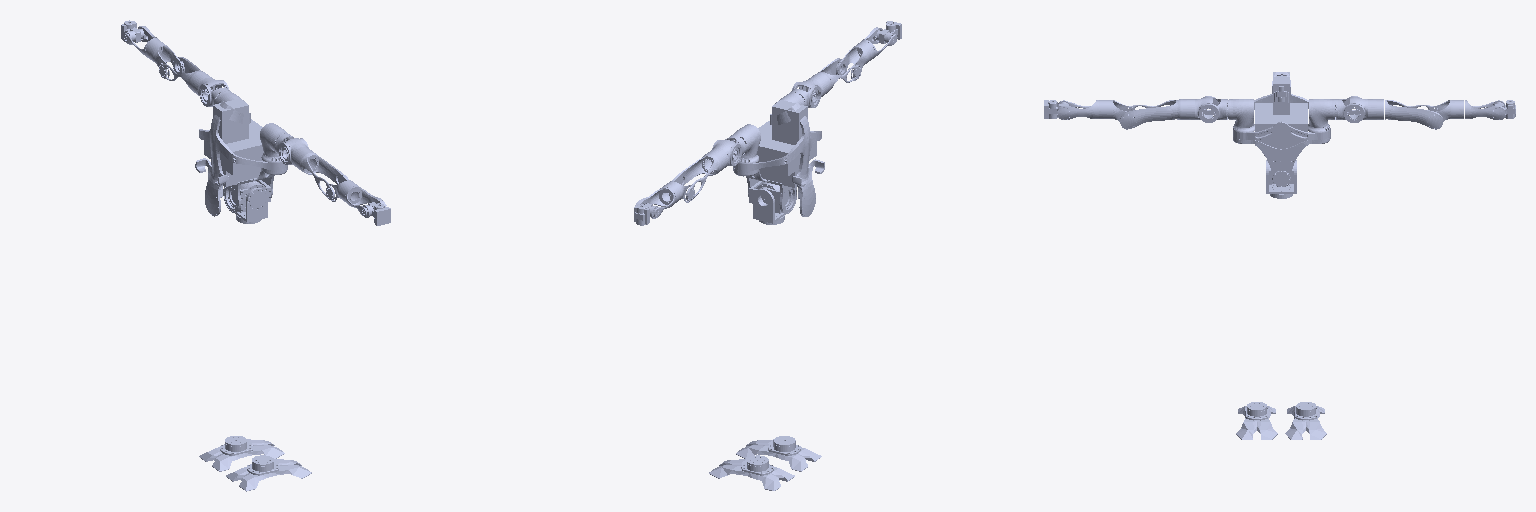
--- Facts derived from the render (not from the file) ---
3 views of the same robot in one strip: view 1: azimuth 30°, elevation 25°; view 2: azimuth 150°, elevation 25°; view 3: azimuth 270°, elevation 25° (orthographic).
Model dyros_tocabi_description with 36 links and 35 joints (33 revolute, 2 fixed), rooted at Pelvis_Link, posed every joint at zero.
Links seen in each view (by area): view 1: Upperbody_Link, R_Foot_Link, L_Foot_Link, R_Armlink_Link, Waist1_Link, L_Elbow_Link, R_Shoulder3_Link, Waist2_Link, R_Shoulder1_Link; view 2: Upperbody_Link, L_Foot_Link, R_Foot_Link, L_Armlink_Link, Waist1_Link, R_Elbow_Link, Waist2_Link, L_Shoulder3_Link, L_Shoulder1_Link; view 3: Upperbody_Link, L_Foot_Link, R_Foot_Link, R_Armlink_Link, L_Armlink_Link, L_Shoulder1_Link, R_Shoulder1_Link, R_Shoulder3_Link, L_Shoulder3_Link, R_Forearm_Link, L_Forearm_Link.
Link boxes in pixels (x1,y1,x2,y2): Upperbody_Link: (195,99,287,216); R_Foot_Link: (226,455,311,491); L_Foot_Link: (199,436,284,471); R_Armlink_Link: (301,154,351,199); Waist1_Link: (235,188,267,223); L_Elbow_Link: (145,40,182,78); R_Shoulder3_Link: (282,138,316,171); Waist2_Link: (228,180,270,212); R_Shoulder1_Link: (260,123,287,156); Upperbody_Link: (733,100,824,216); L_Foot_Link: (709,455,794,490); R_Foot_Link: (736,436,821,471); L_Armlink_Link: (669,155,719,200); Waist1_Link: (753,189,787,224); R_Elbow_Link: (837,41,874,80); Waist2_Link: (749,181,792,213); L_Shoulder3_Link: (704,140,738,173); L_Shoulder1_Link: (731,124,760,158); Upperbody_Link: (1233,72,1330,186); L_Foot_Link: (1285,402,1326,439); R_Foot_Link: (1236,402,1277,439); R_Armlink_Link: (1120,100,1178,129); L_Armlink_Link: (1385,100,1442,129); L_Shoulder1_Link: (1309,99,1334,127); R_Shoulder1_Link: (1229,99,1253,127); R_Shoulder3_Link: (1179,97,1218,119); L_Shoulder3_Link: (1344,97,1383,119); R_Forearm_Link: (1057,100,1098,119); L_Forearm_Link: (1465,100,1506,119).
Size in the robot's own frame: 0.366 by 1.96 by 1.56 metres.
Meshes: 33 distinct files referenced, 19 mesh visuals loaded (18 binary STL); not drawn: 15 (reference not matched to a file when rendering).

URDF robot description (dyros_tocabi_description):
<robot name="dyros_tocabi_description">
  <mujoco>
      <compiler meshdir="../meshes/" balanceinertia="true"/>
  </mujoco>
  <link
    name="Pelvis_Link">
    <inertial>
      <origin
        xyz="0.0585 0 0.0431"
        rpy="0 0 0"/>
      <mass
        value="12.9" />
      <inertia
        ixx="0.113284"
        ixy="-0.000116"
        ixz="-0.0056"
        iyy="0.0585"
        iyz="-0.0"
        izz="0.1422" />
    </inertial>
    <visual>
      <origin
        xyz="0.11 0 0.02"
        rpy="0 0 0" />
      <geometry>
        <mesh
          filename="package://tocabi_description/meshes/Pelvis_link.STL" />
      </geometry>
      <material
        name="">
        <color
          rgba="0.79216 0.81961 0.93333 1" />
      </material>
    </visual>
    <collision>
      <origin
        xyz="0.11 0 0.039"
        rpy="0 0 0" />
      <geometry>
		<cylinder length="0.088" radius="0.045"/>
      </geometry>
    </collision>
	<collision>
      <origin
        xyz="0.11 0.1025 0.05"
        rpy="0 0 0" />
      <geometry>
		<cylinder length="0.11" radius="0.045"/>
      </geometry>
    </collision>
	<collision>
      <origin
        xyz="0.11 -0.1025 0.05"
        rpy="0 0 0" />
      <geometry>
		<cylinder length="0.11" radius="0.045"/>
      </geometry>
    </collision>
	<collision>
      <origin
        xyz="-0.0895 0 0.02"
        rpy="0 0 0" />
      <geometry>
		<box size="0.141 0.305 0.05"/>
      </geometry>
    </collision>
  </link>
  <link
    name="R_HipRoll_Link">
<inertial>
      <origin
        xyz="-0.06477 0 0.05149"
        rpy="0 0 0" />
      <mass
        value="2.679" />
      <inertia
        ixx="0.01821"
        ixy="-1.676E-07"
        ixz="-0.0007745"
        iyy="0.03121"
        iyz="-4.53E-09"
        izz="0.2928" />
    </inertial>
    <visual>
      <origin
        xyz="0 0 0"
        rpy="0 0 0" />
      <geometry>
        <mesh
          filename="package://tocabi_description/meshes/HipRoll_R_link.STL" />
      </geometry>
      <material
        name="">
        <color
          rgba="0.79216 0.81961 0.93333 1" />
      </material>
    </visual>
    <collision>
      <origin
        xyz="-0.1 0 0"
        rpy="0 1.570796 0" />
      <geometry>
        <cylinder length="0.08" radius="0.045"/>
      </geometry>
    </collision>
	<collision>
      <origin
        xyz="-0.016 0 0.085"
        rpy="0 0 0" />
      <geometry>
		<box size="0.154 0.1 0.02"/>
      </geometry>
    </collision>
	<collision>
      <origin
        xyz="0.055 0 0.0475"
        rpy="0 0 0" />
      <geometry>
		<box size="0.012 0.072 0.095"/>
      </geometry>
    </collision>
	<collision>
      <origin
        xyz="-0.087 0 0.0475"
        rpy="0 0 0" />
      <geometry>
		<box size="0.012 0.072 0.095"/>
      </geometry>
    </collision>
  </link>
  <joint
    name="R_HipYaw_Joint"
    type="revolute">
    <origin
      xyz="0.11 -0.1025 -0.1025"
      rpy="0 0 0" />
    <parent
      link="Pelvis_Link" />
    <child
      link="R_HipRoll_Link" />
    <axis
      xyz="0 0 1" />
	<limit
	  lower="-3.14"
	  upper="3.14"
      effort="500"
      velocity="100" />
    <dynamics
      damping="5" />
	  
  </joint>
  <link
    name="R_HipCenter_Link">
	<inertial>
      <origin
        xyz="-0.04801 -0.0022 2E-05"
        rpy="0 0 0" />
      <mass
        value="2.67" />
      <inertia
        ixx="0.3553"
        ixy="1.725E-08"
        ixz="-3.236E-06"
        iyy="0.009161"
        iyz="-4.778E-06"
        izz="0.00876" />
    </inertial>
    <visual>
      <origin
        xyz="0 0 0"
        rpy="0 0 0" />
      <geometry>
        <mesh
          filename="package://tocabi_description/meshes/HipCenter_R_Link.STL" />
      </geometry>
      <material
        name="">
        <color
          rgba="0.79216 0.81961 0.93333 1" />
      </material>
    </visual>
    <collision>
      <origin
        xyz="-0.0045 0 0"
        rpy="0 0 0" />
      <geometry>
		<box size="0.1045 0.06 0.095"/>
      </geometry>
    </collision>
  </link>
  <joint
    name="R_HipRoll_Joint"
    type="revolute">
    <origin
      xyz="0 0 0"
      rpy="1.38777878078145E-17 2.74984739744835E-16 4.49346870585602E-16" />
    <parent
      link="R_HipRoll_Link" />
    <child
      link="R_HipCenter_Link" />
    <axis
      xyz="1 0 0" />
	  <limit
	  lower="-3.14"
	  upper="3.14"
      effort="500"
      velocity="100" />
    <dynamics
      damping="5" />
  </joint>
  <link
    name="R_Thigh_Link">
    <inertial>
      <origin
        xyz="-0.0003 -0.00032 -0.247"
        rpy="0 0 0" />
      <mass
        value="5.65" />
      <inertia
        ixx="0.0794"
        ixy="4.1E-05"
        ixz="0.000727"
        iyy="0.080"
        iyz="0.001537"
        izz="0.009967" />
    </inertial>
    <visual>
      <origin
        xyz="0 0 0"
        rpy="0 0 0" />
      <geometry>
        <mesh
          filename="package://tocabi_description/meshes/Thigh_R_Link.STL" />
      </geometry>
      <material
        name="">
        <color
          rgba="0.79216 0.81961 0.93333 1" />
      </material>
    </visual>
    <collision>
      <origin
        xyz="0 0 -0.35"
        rpy="1.570796 0 0" />
      <geometry>
        <cylinder length="0.07763" radius="0.049"/>
      </geometry>
    </collision>
	<collision>
      <origin
        xyz="0 0 -0.1923"
        rpy="0 0 0" />
      <geometry>
        <cylinder length="0.2175" radius="0.06"/>
      </geometry>
    </collision>
  </link>
  <joint
    name="R_HipPitch_Joint"
    type="revolute">
    <origin
      xyz="0 0 0"
      rpy="-1.38777878078143E-17 -2.74984739744835E-16 -4.49346870585602E-16" />
    <parent
      link="R_HipCenter_Link" />
    <child
      link="R_Thigh_Link" />
    <axis
      xyz="0 1 0" />
	  <limit
	  lower="-3.14"
	  upper="3.14"
      effort="500"
      velocity="100" />
    <dynamics
      damping="5" />
  </joint>
  <link
    name="R_Knee_Link">
     <inertial>
      <origin
        xyz="0.007 0.00214 -0.1686"
        rpy="0 0 0" />
      <mass
        value="2.614" />
      <inertia
        ixx="0.1506"
        ixy="-2.887E-05"
        ixz="-0.002607"
        iyy="0.5588"
        iyz="-0.001486"
        izz="0.007451" />
    </inertial>
    <visual>
      <origin
        xyz="0 0 0"
        rpy="0 0 0" />
      <geometry>
        <mesh
          filename="package://tocabi_description/meshes/Knee_R_Link.STL" />
      </geometry>
      <material
        name="">
        <color
          rgba="0.79216 0.81961 0.93333 1" />
      </material>
    </visual>
    <collision>
      <origin
        xyz="0 0 -0.175"
        rpy="0 0 0" />
      <geometry>
        <cylinder length="0.200" radius="0.06"/>
      </geometry>
    </collision>
  </link>
  <joint
    name="R_Knee_Joint"
    type="revolute">
    <origin
      xyz="0 0 -0.349999999999809"
      rpy="0 0 0" />
    <parent
      link="R_Thigh_Link" />
    <child
      link="R_Knee_Link" />
    <axis
      xyz="0 1 0" />
	  <limit
	  lower="-3.14"
	  upper="3.14"
      effort="500"
      velocity="100" />
    <dynamics
      damping="5" />
  </joint>
  <link
    name="R_AnkleCenter_Link">
<inertial>
      <origin
        xyz="-0.00228 0.0006 0.0"
        rpy="0 0 0" />
      <mass
        value="2.833" />
      <inertia
        ixx="0.003548"
        ixy="-4.0E-06"
        ixz="-2.222E-06"
        iyy="0.004046"
        iyz="5.0E-06"
        izz="0.00397" />
    </inertial>
    <visual>
      <origin
        xyz="0 0 0"
        rpy="0 0 0" />
      <geometry>
        <mesh
          filename="package://tocabi_description/meshes/AnkleCenter_R_Link.STL" />
      </geometry>
      <material
        name="">
        <color
          rgba="0.79216 0.81961 0.93333 1" />
      </material>
    </visual>
    <collision>
      <origin
        xyz="-0.0045 0 0"
        rpy="0 0 0" />
      <geometry>
		<box size="0.1045 0.06 0.095"/>
      </geometry>
    </collision>
  </link>
  <joint
    name="R_AnklePitch_Joint"
    type="revolute">
    <origin
      xyz="0 0 -0.35"
      rpy="-2.77555756156282E-17 -1.48042453629419E-16 5.37756273475549E-16" />
    <parent
      link="R_Knee_Link" />
    <child
      link="R_AnkleCenter_Link" />
    <axis
      xyz="0 1 0" />
	  <limit
	  lower="-3.14"
	  upper="3.14"
      effort="500"
      velocity="100" />
    <dynamics
      damping="5" />
  </joint>
  <link
    name="R_AnkleRoll_Link">
    <inertial>
      <origin
        xyz="-0.0746 0.0 -0.0096"
        rpy="0 0 0" />
      <mass
        value="2.1" />
      <inertia
        ixx="0.003951"
        ixy="2e-05"
        ixz="0.0019"
        iyy="0.008642"
        iyz="-5.435E-06"
        izz="0.007223" />
    </inertial>
    <visual>
      <origin
        xyz="0 0 0"
        rpy="0 0 0" />
      <geometry>
        <mesh
          filename="package://tocabi_description/meshes/AnkleRoll_R_Link.STL" />
      </geometry>
      <material
        name="">
        <color
          rgba="0.79216 0.81961 0.93333 1" />
      </material>
    </visual>
    <collision>
      <origin
        xyz="-0.08875 0 0"
        rpy="0 -1.5707963 0" />
      <geometry>
		<cylinder length="0.0625" radius="0.045"/>
      </geometry>
    </collision>
  </link>
  <joint
    name="R_AnkleRoll_Joint"
    type="revolute">
    <origin
      xyz="0 0 0"
      rpy="0 0 0" />
    <parent
      link="R_AnkleCenter_Link" />
    <child
      link="R_AnkleRoll_Link" />
    <axis
      xyz="1 0 0" />
	  <limit
	  lower="-3.14"
	  upper="3.14"
      effort="500"
      velocity="100" />
    <dynamics
      damping="5" />
  </joint>
  <link
    name="R_Foot_Link">
    <inertial>
      <origin
        xyz="0.016 0.00008 -0.1206"
        rpy="0 0 0" />
      <mass
        value="2.35" />
      <inertia
        ixx="0.003386409"
        ixy="1.1237E-05"
        ixz="-0.000526477"
        iyy="0.012600125"
        iyz="-1.976E-06"
        izz="0.014296" />
    </inertial>
    <visual>
      <origin
        xyz="0 0 0"
        rpy="0 0 0" />
      <geometry>
        <mesh
          filename="package://tocabi_description/meshes/Foot_Link.STL" />
      </geometry>
      <material
        name="">
        <color
          rgba="0.79216 0.81961 0.93333 1" />
      </material>
    </visual>
    <collision>
      <origin
        xyz="0.03 0 -0.145"
        rpy="0 0 0" />
      <geometry>
		<box size="0.3 0.17 0.027"/>
      </geometry>
    </collision>
	<collision>
      <origin
        xyz="-0.08875 0 0"
        rpy="0 -1.5707963 0" />
      <geometry>
		<cylinder length="0.0625" radius="0.045"/>
      </geometry>
    </collision>
  </link>
  <joint
    name="R_Foot_Joint"
    type="fixed">
    <origin
      xyz="0 0 0"
      rpy="0 0 0" />
    <parent
      link="R_AnkleRoll_Link" />
    <child
      link="R_Foot_Link" />
    <axis
      xyz="0 0 0" />
	  <limit
	  lower="-3.14"
	  upper="3.14"
      effort="500"
      velocity="100" />
    <dynamics
      damping="5" />
  </joint> 
  <link
    name="L_HipRoll_Link">
    <inertial>
      <origin
        xyz="-0.06477 0 0.05149"
        rpy="0 0 0" />
      <mass
        value="2.679" />
      <inertia
        ixx="0.01821"
        ixy="-1.676E-07"
        ixz="-0.0007745"
        iyy="0.03121"
        iyz="-4.53E-09"
        izz="0.2928" />
    </inertial>
    <visual>
      <origin
        xyz="0 0 0"
        rpy="0 0 0" />
      <geometry>
        <mesh
          filename="package://tocabi_description/meshes/HipRoll_L_Link.STL" />
      </geometry>
      <material
        name="">
        <color
          rgba="0.79216 0.81961 0.93333 1" />
      </material>
    </visual>
    <collision>
      <origin
        xyz="-0.1 0 0"
        rpy="0 1.570796 0" />
      <geometry>
        <cylinder length="0.08" radius="0.045"/>
      </geometry>
    </collision>
	<collision>
      <origin
        xyz="-0.016 0 0.085"
        rpy="0 0 0" />
      <geometry>
		<box size="0.154 0.1 0.02"/>
      </geometry>
    </collision>
	<collision>
      <origin
        xyz="0.055 0 0.0475"
        rpy="0 0 0" />
      <geometry>
		<box size="0.012 0.072 0.095"/>
      </geometry>
    </collision>
	<collision>
      <origin
        xyz="-0.087 0 0.0475"
        rpy="0 0 0" />
      <geometry>
		<box size="0.012 0.072 0.095"/>
      </geometry>
    </collision>
  </link>
  <joint
    name="L_HipYaw_Joint"
    type="revolute">
    <origin
      xyz="0.11 0.1025 -0.1025"
      rpy="0 0 0" />
    <parent
      link="Pelvis_Link" />
    <child
      link="L_HipRoll_Link" />
    <axis
      xyz="0 0 1" />
	  <limit
	  lower="-3.14"
	  upper="3.14"
      effort="500"
      velocity="100" />
    <dynamics
      damping="5" />
  </joint>

  <link
    name="L_HipCenter_Link">
   <inertial>
      <origin
        xyz="-0.04801 0.0022 2E-05"
        rpy="0 0 0" />
      <mass
        value="2.67" />
      <inertia
        ixx="0.3553"
        ixy="1.725E-08"
        ixz="-3.236E-06"
        iyy="0.009161"
        iyz="-4.778E-06"
        izz="0.00876" />
    </inertial>
    <visual>
      <origin
        xyz="0 0 0"
        rpy="0 0 0" />
      <geometry>
        <mesh
          filename="package://tocabi_description/meshes/HipCenter_L_Link.STL" />
      </geometry>
      <material
        name="">
        <color
          rgba="0.79216 0.81961 0.93333 1" />
      </material>
    </visual>    
    <collision>
      <origin
        xyz="-0.0045 0 0"
        rpy="0 0 0" />
      <geometry>
		<box size="0.1045 0.06 0.095"/>
      </geometry>
    </collision>
  </link>
  <joint
    name="L_HipRoll_Joint"
    type="revolute">
    <origin
      xyz="0 0 0"
      rpy="2.77555756156289E-17 1.88969769143558E-16 1.36928250674653E-16" />
    <parent
      link="L_HipRoll_Link" />
    <child
      link="L_HipCenter_Link" />
    <axis
      xyz="1 0 0" />
	  <limit
	  lower="-3.14"
	  upper="3.14"
      effort="500"
      velocity="100" />
    <dynamics
      damping="5" />
  </joint>
  <link
    name="L_Thigh_Link">
   <inertial>
      <origin
        xyz="-0.0003 0.00032 -0.247"
        rpy="0 0 0" />
      <mass
        value="5.65" />
      <inertia
        ixx="0.0794"
        ixy="4.1E-05"
        ixz="0.000727"
        iyy="0.080"
        iyz="-0.001537"
        izz="0.009967" />
    </inertial>
    <visual>
      <origin
        xyz="0 0 0"
        rpy="0 0 0" />
      <geometry>
        <mesh
          filename="package://tocabi_description/meshes/Thigh_L_Link.STL" />
      </geometry>
      <material
        name="">
        <color
          rgba="0.79216 0.81961 0.93333 1" />
      </material>
    </visual>
    <collision>
      <origin
        xyz="0 0 -0.35"
        rpy="1.570796 0 0" />
      <geometry>
        <cylinder length="0.07763" radius="0.049"/>
      </geometry>
    </collision>
	<collision>
      <origin
        xyz="0 0 -0.1923"
        rpy="0 0 0" />
      <geometry>
        <cylinder length="0.2175" radius="0.06"/>
      </geometry>
    </collision>
  </link>
  <joint
    name="L_HipPitch_Joint"
    type="revolute">
    <origin
      xyz="0 0 0"
      rpy="-2.77555756156289E-17 -1.88969769143558E-16 -1.36928250674653E-16" />
    <parent
      link="L_HipCenter_Link" />
    <child
      link="L_Thigh_Link" />
    <axis
      xyz="0 1 0" />
	  <limit
	  lower="-3.14"
	  upper="3.14"
      effort="500"
      velocity="100" />
    <dynamics
      damping="5" />
  </joint>

  <link
    name="L_Knee_Link">
    <inertial>
      <origin
        xyz="0.007 0.00214 -0.1686"
        rpy="0 0 0" />
      <mass
        value="2.614" />
      <inertia
        ixx="0.1506"
        ixy="2.887E-05"
        ixz="0.002607"
        iyy="0.5588"
        iyz="0.001486"
        izz="0.007451" />
    </inertial>
    <visual>
      <origin
        xyz="0 0 0"
        rpy="0 0 0" />
      <geometry>
        <mesh
          filename="package://tocabi_description/meshes/Knee_L_Link.STL" />
      </geometry>
      <material
        name="">
        <color
          rgba="0.79216 0.81961 0.93333 1" />
      </material>
    </visual>
    <collision>
      <origin
        xyz="0 0 -0.175"
        rpy="0 0 0" />
      <geometry>
        <cylinder length="0.200" radius="0.06"/>
      </geometry>
    </collision>
  </link>
  <joint
    name="L_Knee_Joint"
    type="revolute">
    <origin
      xyz="0 0 -0.350000000000191"
      rpy="0 0 0" />
    <parent
      link="L_Thigh_Link" />
    <child
      link="L_Knee_Link" />
    <axis
      xyz="0 1 0" />
	  <limit
	  lower="-3.14"
	  upper="3.14"
      effort="500"
      velocity="100" />
    <dynamics
      damping="5" />
  </joint>
  <link
    name="L_AnkleCenter_Link">
     <inertial>
      <origin
        xyz="-0.00228 -0.0006 0.0"
        rpy="0 0 0" />
      <mass
        value="2.833" />
      <inertia
        ixx="0.003548"
        ixy="4.0E-06"
        ixz="2.222E-06"
        iyy="0.004046"
        iyz="5.0E-06"
        izz="0.00397" />
    </inertial>
    <visual>
      <origin
        xyz="0 0 0"
        rpy="0 0 0" />
      <geometry>
        <mesh
          filename="package://tocabi_description/meshes/AnkleCenter_L_Link.STL" />
      </geometry>
      <material
        name="">
        <color
          rgba="0.79216 0.81961 0.93333 1" />
      </material>
    </visual>
    <collision>
      <origin
        xyz="-0.0045 0 0"
        rpy="0 0 0" />
      <geometry>
		<box size="0.1045 0.06 0.095"/>
      </geometry>
    </collision>
  </link>
  <joint
    name="L_AnklePitch_Joint"
    type="revolute">
    <origin
      xyz="0 0 -0.350000000051828"
      rpy="2.57102424745274E-31 -1.5978825624527E-16 1.89651504296143E-16" />
    <parent
      link="L_Knee_Link" />
    <child
      link="L_AnkleCenter_Link" />
    <axis
      xyz="0 1 0" />
	  <limit
	  lower="-3.14"
	  upper="3.14"
      effort="500"
      velocity="100" />
    <dynamics
      damping="5" />
  </joint>
  <link
    name="L_AnkleRoll_Link">
    <inertial>
      <origin
        xyz="-0.0746 0.0 -0.0096"
        rpy="0 0 0" />
      <mass
        value="2.1" />
      <inertia
        ixx="0.003951"
        ixy="2e-05"
        ixz="0.0019"
        iyy="0.008642"
        iyz="-5.435E-06"
        izz="0.007223" />
    </inertial>
    <visual>
      <origin
        xyz="0 0 0"
        rpy="0 0 0" />
      <geometry>
        <mesh
          filename="package://tocabi_description/meshes/AnkleRoll_L_Link.STL" />
      </geometry>
      <material
        name="">
        <color
          rgba="0.79216 0.81961 0.93333 1" />
      </material>
    </visual>
    <collision>
      <origin
        xyz="-0.08875 0 0"
        rpy="0 -1.5707963 0" />
      <geometry>
		<cylinder length="0.0625" radius="0.045"/>
      </geometry>
    </collision>
  </link>
  <joint
    name="L_AnkleRoll_Joint"
    type="revolute">
    <origin
      xyz="0 0 0"
      rpy="-2.87406507911047E-31 1.5978825624527E-16 -1.89651504296143E-16" />
    <parent
      link="L_AnkleCenter_Link" />
    <child
      link="L_AnkleRoll_Link" />
    <axis
      xyz="1 0 0" />
	  <limit
	  lower="-3.14"
	  upper="3.14"
      effort="500"
      velocity="100" />
    <dynamics
      damping="5" />
  </joint>
  <link
    name="L_Foot_Link">
    <inertial>
      <origin
        xyz="0.016 -0.00008 -0.1206"
        rpy="0 0 0" />
      <mass
        value="2.350" />
      <inertia
        ixx="0.003386409"
        ixy="1.1237E-05"
        ixz="-0.000526477"
        iyy="0.012600125"
        iyz="-1.976E-06"
        izz="0.014296" />
    </inertial>
    <visual>
      <origin
        xyz="0 0 0"
        rpy="0 0 0" />
      <geometry>
        <mesh
          filename="package://tocabi_description/meshes/Foot_Link.STL" />
      </geometry>
      <material
        name="">
        <color
          rgba="0.79216 0.81961 0.93333 1" />
      </material>
    </visual>
    <collision>
      <origin
        xyz="0.03 0 -0.145"
        rpy="0 0 0" />
      <geometry>
		<box size="0.3 0.17 0.027"/>
      </geometry>
    </collision>
	<collision>
      <origin
        xyz="-0.08875 0 0"
        rpy="0 -1.5707963 0" />
      <geometry>
		<cylinder length="0.0625" radius="0.045"/>
      </geometry>
    </collision>
  </link>
  <joint
    name="L_Foot_Joint"
    type="fixed">
    <origin
      xyz="0 0 0"
      rpy="0 0 0" />
    <parent
      link="L_AnkleRoll_Link" />
    <child
      link="L_Foot_Link" />
    <axis
      xyz="0 0 0" />
	  <limit
	  lower="-3.14"
	  upper="3.14"
      effort="500"
      velocity="100" />
    <dynamics
      damping="5" />
  </joint>
  <link
    name="Waist1_Link">
    <inertial>
      <origin
        xyz="-0.033735 0 -0.0386"
        rpy="0 0 0" />
      <mass
        value="6.477" />
      <inertia
        ixx="0.06657"
        ixy="0.0001591"
        ixz="0.0001333"
        iyy="0.02504"
        iyz="0.0003246"
        izz="0.08023" />
    </inertial>
    <visual>
      <origin
        xyz="0 0 0"
        rpy="0 0 0" />
      <geometry>
        <mesh
          filename="package://tocabi_description/meshes/waist1.STL" />
      </geometry>
      <material
        name="">
        <color
          rgba="0.792156862745098 0.819607843137255 0.933333333333333 1" />
      </material>
    </visual>
	<visual>
      <origin
        xyz="0 0 -0.096"
        rpy="0 0 0" />
      <geometry>
        <cylinder length="0.02" radius="0.05"/>
      </geometry>
      <material
        name="">
        <color
          rgba="0.792156862745098 0.819607843137255 0.933333333333333 1" />
      </material>
    </visual>
	<collision>
      <origin
        xyz="0 0 -0.096"
        rpy="0 0 0" />
      <geometry>
		<cylinder length="0.02" radius="0.05"/>
      </geometry>	  
    </collision>	
	<collision>
      <origin
        xyz="0 0 -0.081"
        rpy="0 0 0" />
      <geometry>
        <box size="0.094 0.13 0.01"/>
      </geometry>	  
    </collision>
	<collision>
      <origin
        xyz="0 0.06 -0.0405"
        rpy="0 0 0" />
      <geometry>
        <box size="0.094 0.01 0.091"/>
      </geometry>	  
    </collision>
	<collision>
      <origin
        xyz="0 -0.06 -0.0405"
        rpy="0 0 0" />
      <geometry>
        <box size="0.094 0.01 0.091"/>
      </geometry>	  
    </collision>
	
  </link>
  <joint
    name="Waist1_Joint"
    type="revolute">
    <origin
      xyz="0.11 0 0.1979"
      rpy="0 0 0" />
    <parent
      link="Pelvis_Link" />
    <child
      link="Waist1_Link" />
    <axis
      xyz="0 0 1" />
    <limit
      lower="-2.094"
      upper="2.094"
      effort="500"
      velocity="100" />
	<dynamics
      damping="5" />
   </joint>
  <link
    name="Waist2_Link">
    <inertial>
      <origin
        xyz="-0.000266 0.009 0"
        rpy="0 0 0" />
      <mass
        value="3.881" />
      <inertia
        ixx="0.006439"
        ixy="-1e-05"
        ixz="0.0"
        iyy="0.007393"
        iyz="-1e-06"
        izz="0.007618" />
    </inertial>
    <visual>
      <origin
        xyz="0 0 0"
        rpy="0 0 0" />
      <geometry>
        <mesh
          filename="package://tocabi_description/meshes/waist2.STL" />
      </geometry>
      <material
        name="">
        <color
          rgba="0.792156862745098 0.819607843137255 0.933333333333333 1" />
      </material>
    </visual>
    
	<collision>
      <origin
        xyz="0 0 0"
        rpy="1.570796 0 0" />
      <geometry>
        <cylinder length="0.1" radius="0.055"/>
      </geometry>
    </collision>
	<collision>
      <origin
        xyz="0.02 0 0"
        rpy="0 0 0" />
      <geometry>
        <box size="0.1 0.1 0.06"/>
      </geometry>
    </collision>
	<collision>
      <origin
        xyz="-0.02 0 0"
        rpy="0 0 0" />
      <geometry>
        <box size="0.09 0.1 0.091"/>
      </geometry>
    </collision>
	
	
  </link>
  <joint
    name="Waist2_Joint"
    type="revolute">
    <origin
      xyz="0 0 0"
      rpy="0 0 0" />
    <parent
      link="Waist1_Link" />
    <child
      link="Waist2_Link" />
    <axis
      xyz="0 1 0" />
    <limit
      lower="-2.094"
      upper="2.094"
      effort="500"
      velocity="100" />
	<dynamics
      damping="5" />
  </joint>
<link
    name="Upperbody_Link">
    <inertial>
      <origin
        xyz="-0.0608 0.0017 0.1077"
        rpy="0 0 0" />
      <mass
        value="20.034" />
      <inertia
        ixx="0.309"
        ixy="0.000385"
        ixz="-0.0422"
        iyy="0.2935"
        iyz="0.0005"
        izz="0.2137" />
    </inertial>
    <visual>
      <origin
        xyz="0 0 0"
        rpy="0 0 0" />
      <geometry>
        <mesh
          filename="package://tocabi_description/meshes/upperbody.STL" />
      </geometry>
      <material
        name="">
        <color
          rgba="0.792156862745098 0.819607843137255 0.933333333333333 1" />
      </material>
    </visual>
	<visual>
	  <origin
        xyz="-0.03 0 0.2"
        rpy="0 0 0" />
      <geometry>
        <box size="0.21 0.22 0.1"/>
      </geometry>
      <material
        name="">
        <color
          rgba="0.792156862745098 0.819607843137255 0.933333333333333 1" />
      </material>
    </visual>
	    <visual>
      <origin
        xyz="-0.03 0 0.115"
        rpy="0 0 0" />
      <geometry>
        <box size="0.21 0.11 0.07"/>
      </geometry>
      <material
        name="">
        <color
          rgba="0.792156862745098 0.819607843137255 0.933333333333333 1" />
      </material>
    </visual>
	    <visual>
      <origin
        xyz="-0.08 0 0.32"
        rpy="0 0 0" />
      <geometry>
        <box size="0.12 0.07 0.14"/>
      </geometry>
      <material
        name="">
        <color
          rgba="0.792156862745098 0.819607843137255 0.933333333333333 1" />
      </material>
    </visual>
    <collision>
      <origin
        xyz="-0.03 0 0.2"
        rpy="0 0 0" />
      <geometry>
        <box size="0.21 0.22 0.1"/>
      </geometry>
    </collision>
	<collision>
      <origin
        xyz="-0.03 0 0.115"
        rpy="0 0 0" />
      <geometry>
        <box size="0.21 0.11 0.07"/>
      </geometry>
    </collision>
	
	<collision>
      <origin
        xyz="-0.08 0 0.32"
        rpy="0 0 0" />
      <geometry>
        <box size="0.12 0.07 0.14"/>
      </geometry>
    </collision>
	<collision>
      <origin
        xyz="-0.115 0 0.0"
        rpy="0 1.570796 0" />
      <geometry>
        <cylinder length="0.09" radius="0.054"/>
      </geometry>
    </collision>
	<collision>
      <origin
        xyz="0.023 0.154 0.185"
        rpy="0 0 0" />
      <geometry>
        <cylinder length="0.07" radius="0.040"/>
      </geometry>
    </collision>
	<collision>
      <origin
        xyz="0.023 -0.154 0.185"
        rpy="0 0 0" />
      <geometry>
        <cylinder length="0.07" radius="0.040"/>
      </geometry>
    </collision>
  </link>
  <joint
    name="Upperbody_Joint"
    type="revolute">
    <origin
      xyz="0 0 0"
      rpy="0 0 0" />
    <parent
      link="Waist2_Link" />
    <child
      link="Upperbody_Link" />
    <axis
      xyz="-1 0 0" />
    <limit
      lower="-2.094"
      upper="2.094"
      effort="500"
      velocity="100" />
	<dynamics
      damping="5" />
  </joint>
  
  <link
    name="Neck_Link">
    <inertial>
      <origin
        xyz="-0.0004 -0.002 0.02576"
        rpy="0 0 0" />
      <mass
        value="0.404" />
      <inertia
        ixx="0.000058259"
        ixy="-0.000000076"
        ixz="0.000000268"
        iyy="0.000036489"
        iyz="-0.000001002"
        izz="0.000058237" />
    </inertial>
    <visual>
      <origin
        xyz="0 0 0"
        rpy="0 0 0" />
      <geometry>
        <mesh
          filename="package://tocabi_description/meshes/neck.STL" />
      </geometry>
      <material
        name="">
        <color
          rgba="0.792156862745098 0.819607843137255 0.933333333333333 1" />
      </material>
    </visual>
	<collision>
      <origin
        xyz="0 0 0.05"
        rpy="0 0 0" />
      <geometry>
        <cylinder length="0.043" radius="0.07"/>
      </geometry>
    </collision>
  </link>
  <joint
    name="Neck_Joint"
    type="revolute">
    <origin
      xyz="-0.036 0.0 0.3795"
      rpy="0 0 0" />
    <parent
      link="Upperbody_Link" />
    <child
      link="Neck_Link" />
    <axis
      xyz="0 0 1" />
    <limit
      lower="-1.54"
      upper="1.54"
      effort="500"
      velocity="100" />
	<dynamics
      damping="5" />
  </joint>

  <link
    name="Head_Link">
    <inertial>
      <origin
        xyz="0.0372 0 0.0708"
        rpy="0 0 0" />
      <mass
        value="1.417" />
      <inertia
        ixx="0.0079"
        ixy="0.0"
        ixz="0.0025"
        iyy="0.012"
        iyz="0.0"
        izz="0.01" />
    </inertial>
    <visual>
      <origin
        xyz="0 0 0"
        rpy="0 0 0" />
      <geometry>
        <mesh
          filename="package://tocabi_description/meshes/head.STL" />
      </geometry>
      <material
        name="">
        <color
          rgba="0.792156862745098 0.819607843137255 0.933333333333333 1" />
      </material>
    </visual>
	<collision>
      <origin
        xyz="0 0 0.05"
        rpy="0 0 0" />
      <geometry>
        <cylinder length="0.043" radius="0.07"/>
      </geometry>
    </collision>
  </link>
  <joint
    name="Head_Joint"
    type="revolute">
    <origin
      xyz="0.0 0.0 0.0275"
      rpy="0 0 0" />
    <parent
      link="Neck_Link" />
    <child
      link="Head_Link" />
    <axis
      xyz="0 1 0" />
    <limit
      lower="-1.54"
      upper="1.54"
      effort="500"
      velocity="100" />
	<dynamics
      damping="5" />
  </joint>
  
    <link
    name="L_Shoulder1_Link">
    <inertial>
      <origin
        xyz="-0.00003 0.00397 0.06029"
        rpy="0 0 0" />
      <mass
        value="1.6762" />
      <inertia
        ixx="0.001925606"
        ixy="0.000001433"
        ixz="0.000002313"
        iyy="0.001936576"
        iyz="0.000078962"
        izz="0.185330098" />
    </inertial>
    <visual>
      <origin
        xyz="0 0 0"
        rpy="0 0 0" />
      <geometry>
        <mesh
          filename="package://tocabi_description/meshes/L_shoulder1.STL" />
      </geometry>
      <material
        name="">
        <color
          rgba="0.792156862745098 0.819607843137255 0.933333333333333 1" />
      </material>
    </visual>
	<collision>
      <origin
        xyz="0 0 0.05"
        rpy="0 0 0" />
      <geometry>
        <cylinder length="0.11" radius="0.04"/>
      </geometry>
    </collision>
  </link>
  <joint
    name="L_Shoulder1_Joint"
    type="revolute">
    <origin
      xyz="0.023 0.154 0.2275"
      rpy="0 0 0" />
    <parent
      link="Upperbody_Link" />
    <child
      link="L_Shoulder1_Link" />
    <axis
      xyz="0 0 1" />
    <limit
      lower="-2.09"
      upper="1.54"
      effort="500"
      velocity="100" />
	<dynamics
      damping="5" />
  </joint>

  <link
    name="L_Shoulder2_Link">
    <inertial>
      <origin
        xyz="0.00107 0.0491 -0.00001"
        rpy="0 0 0" />
      <mass
        value="0.4016" />
      <inertia
        ixx="0.000989903"
        ixy="0.000028237"
        ixz="-0.000000465"
        iyy="0.184275853"
        iyz="0.000000133"
        izz="0.001067575" />
    </inertial>
    <visual>
      <origin
        xyz="0 0 0"
        rpy="0 0 0" />
      <geometry>
        <mesh
          filename="package://tocabi_description/meshes/L_shoulder2.STL" />
      </geometry>
      <material
        name="">
        <color
          rgba="0.792156862745098 0.819607843137255 0.933333333333333 1" />
      </material>
    </visual>
	<collision>
      <origin
        xyz="0 0.040 0"
        rpy="1.570796 0 0" />
      <geometry>
        <cylinder length="0.05" radius="0.04"/>
      </geometry>
    </collision>
  </link>
  <joint
    name="L_Shoulder2_Joint"
    type="revolute">
    <origin
      xyz="0 0.0341 0.065"
      rpy="0 0 0" />
    <parent
      link="L_Shoulder1_Link" />
    <child
      link="L_Shoulder2_Link" />
    <axis
      xyz="0 1 0" />
    <limit
      lower="-3.14159"
      upper="3.14159"
      effort="500"
      velocity="100" />
	<dynamics
      damping="5" />
  </joint>
  <link
    name="L_Shoulder3_Link">
    <inertial>
      <origin
        xyz="0.00262 0.04826 0.00023"
        rpy="0 0 0" />
      <mass
        value="2.90141" />
      <inertia
        ixx="0.192093159"
        ixy="-0.000365084"
        ixz="-0.000002746"
        iyy="0.002493784"
        iyz="-0.000023821"
        izz="0.008296854" />
    </inertial>
    <visual>
      <origin
        xyz="0 0 0"
        rpy="0 0 0" />
      <geometry>
        <mesh
          filename="package://tocabi_description/meshes/L_shoulder3.STL" />
      </geometry>
      <material
        name="">
        <color
          rgba="0.792156862745098 0.819607843137255 0.933333333333333 1" />
      </material>
    </visual>
	<collision>
      <origin
        xyz="0 0.06 0"
        rpy="1.570796 0 0" />
      <geometry>
        <cylinder length="0.12" radius="0.04"/>
      </geometry>
    </collision>
  </link>
  <joint
    name="L_Shoulder3_Joint"
    type="revolute">
    <origin
      xyz="0 0.115 0"
      rpy="0 0 0" />
    <parent
      link="L_Shoulder2_Link" />
    <child
      link="L_Shoulder3_Link" />
    <axis
      xyz="-1 0 0" />
    <limit
      lower="-1.9199"
      upper="1.9199"
      effort="500"
      velocity="100" />
	<dynamics
      damping="5" />
  </joint>

  <link
    name="L_Armlink_Link">
    <inertial>
      <origin
        xyz="-0.01896 0.11642 -0.0119"
        rpy="0 0 0" />
      <mass
        value="0.58517" />
      <inertia
        ixx="0.002878609"
        ixy="0.000302586"
        ixz="-0.000036001"
        iyy="0.184381923"
        iyz="0.000398377"
        izz="0.003117058" />
    </inertial>
    <visual>
      <origin
        xyz="0 0 0"
        rpy="0 0 0" />
      <geometry>
        <mesh
          filename="package://tocabi_description/meshes/L_arm.STL" />
      </geometry>
      <material
        name="">
        <color
          rgba="0.792156862745098 0.819607843137255 0.933333333333333 1" />
      </material>
    </visual>
	<collision>
      <origin
        xyz="0 0.08 0"
        rpy="1.570796 0 0" />
      <geometry>
        <cylinder length="0.16" radius="0.04"/>
      </geometry>
    </collision>
  </link>
  <joint
    name="L_Armlink_Joint"
    type="revolute">
    <origin
      xyz="0 0.1281 0"
      rpy="0 0 0" />
    <parent
      link="L_Shoulder3_Link" />
    <child
      link="L_Armlink_Link" />
    <axis
      xyz="0 1 0" />
    <limit
      lower="-3.14159"
      upper="3.14159"
      effort="500"
      velocity="100" />
	<dynamics
      damping="5" />
  </joint>
  <link
    name="L_Elbow_Link">
    <inertial>
      <origin
        xyz="-0.00136 0.05256 0.01764"
        rpy="0 0 0" />
      <mass
        value="2.06511" />
      <inertia
        ixx="0.055865466"
        ixy="0.000151764"
        ixz="0.000055158"
        iyy="0.001895543"
        iyz="0.001530917"
        izz="0.005958821" />
    </inertial>
    <visual>
      <origin
        xyz="0 0 0"
        rpy="0 0 0" />
      <geometry>
        <mesh
          filename="package://tocabi_description/meshes/L_elbow.STL" />
      </geometry>
      <material
        name="">
        <color
          rgba="0.792156862745098 0.819607843137255 0.933333333333333 1" />
      </material>
    </visual>
<collision>
      <origin
        xyz="0 0.08 0.0325"
        rpy="1.570796 0 0" />
      <geometry>
        <cylinder length="0.08" radius="0.04"/>
      </geometry>
    </collision>
	<collision>
      <origin
        xyz="0 0 0"
        rpy="0 1.570796 0" />
      <geometry>
        <cylinder length="0.08" radius="0.04"/>
      </geometry>
    </collision>
  </link>
  <joint
    name="L_Elbow_Joint"
    type="revolute">
    <origin
      xyz="0 0.207 -0.0325"
      rpy="0 0 0" />
    <parent
      link="L_Armlink_Link" />
    <child
      link="L_Elbow_Link" />
    <axis
      xyz="1 0 0" />
    <limit
      lower="-3.14159"
      upper="2.8"
      effort="500"
      velocity="100" />
	<dynamics
      damping="5" />
  </joint>
  <link
    name="L_Forearm_Link">
    <inertial>
      <origin
        xyz="-0.01426 0.0767 0.00033"
        rpy="0 0 0" />
      <mass
        value="0.35234" />
      <inertia
        ixx="0.001053636"
        ixy="0.000084568"
        ixz="0.000022117"
        iyy="0.049889479"
        iyz="0.000019539"
        izz="0.001266418" />
    </inertial>
    <visual>
      <origin
        xyz="0 0 0"
        rpy="0 0 0" />
      <geometry>
        <mesh
          filename="package://tocabi_description/meshes/L_forearm.STL" />
      </geometry>
      <material
        name="">
        <color
          rgba="0.792156862745098 0.819607843137255 0.933333333333333 1" />
      </material>
    </visual>
		<collision>
      <origin
        xyz="0 0.05 0"
        rpy="1.570796 0 0" />
      <geometry>
        <cylinder length="0.1" radius="0.04"/>
      </geometry>
    </collision>
	<collision>
      <origin
        xyz="0 0.1451 0"
        rpy="0 1.570796 0" />
      <geometry>
        <cylinder length="0.08" radius="0.025"/>
      </geometry>
    </collision>
  </link>
  <joint
    name="L_Forearm_Joint"
    type="revolute">
    <origin
      xyz="0 0.1244 0.0325"
      rpy="0 0 0" />
    <parent
      link="L_Elbow_Link" />
    <child
      link="L_Forearm_Link" />
    <axis
      xyz="0 1 0" />
    <limit
      lower="-3.14159"
      upper="3.14159"
      effort="500"
      velocity="100" />
	<dynamics
      damping="5" />
  </joint>
  <link
    name="L_Wrist1_Link">
    <inertial>
      <origin
        xyz="-0.00158 0.02153 0.00003"
        rpy="0 0 0" />
      <mass
        value="0.70923" />
      <inertia
        ixx="0.015205197"
        ixy="0.000024218"
        ixz="-0.000000263"
        iyy="0.000396376"
        iyz="0.000000688"
        izz="0.000683187" />
    </inertial>
    <visual>
      <origin
        xyz="0 0 0"
        rpy="0 0 0" />
      <geometry>
        <mesh
          filename="package://tocabi_description/meshes/L_wrist1.STL" />
      </geometry>
      <material
        name="">
        <color
          rgba="0.792156862745098 0.819607843137255 0.933333333333333 1" />
      </material>
    </visual>
    	<collision>
      <origin
        xyz="0 0.046 0"
        rpy="0 0 0" />
      <geometry>
        <cylinder length="0.06" radius="0.02"/>
      </geometry>
    </collision>
  </link>
  <joint
    name="L_Wrist1_Joint"
    type="revolute">
    <origin
      xyz="0 0.1451 0"
      rpy="0 0 0" />
    <parent
      link="L_Forearm_Link" />
    <child
      link="L_Wrist1_Link" />
    <axis
      xyz="1 0 0" />
    <limit
      lower="-3.14159"
      upper="3.14159"
      effort="500"
      velocity="100" />
	<dynamics
      damping="5" />
  </joint>
  <link
    name="L_Wrist2_Link">
    <inertial>
      <origin
        xyz="0.00063 0.0636 -0.15"
        rpy="0 0 0" />
      <mass
        value="1.1" />
      <inertia
        ixx="0.000865450"
        ixy="0"
        ixz="0"
        iyy="0.000696917"
        iyz="0"
        izz="0.015377823" />
    </inertial>
    <visual>
      <origin
        xyz="0 0 0"
        rpy="0 0 0" />
      <geometry>
        <box size="0.06 0.06 0.02"/>
      </geometry>
      <material
        name="">
        <color
          rgba="0.792156862745098 0.819607843137255 0.933333333333333 1" />
      </material>
    </visual>
	<collision>
      <origin
        xyz="0 0 -0.025"
        rpy="0 0 0" />
      <geometry>
        <box size="0.06 0.06 0.02"/>
      </geometry>
    </collision>
  </link>
  <joint
    name="L_Wrist2_Joint"
    type="revolute">
    <origin
      xyz="0 0.046 0"
      rpy="1.5708 3.1415 0" />
    <parent
      link="L_Wrist1_Link" />
    <child
      link="L_Wrist2_Link" />
    <axis
      xyz="0 1 0" />
    <limit
      lower="-2.094"
      upper="2.094"
      effort="500"
      velocity="100" />
	<dynamics
      damping="5" />
  </joint>

  <link
    name="R_Shoulder1_Link">
    <inertial>
      <origin
        xyz="-0.00003 -0.00397 0.06029"
        rpy="0 0 0" />
      <mass
        value="1.6762" />
      <inertia
        ixx="0.001925606"
        ixy="-0.000001433"
        ixz="0.000002313"
        iyy="0.001936576"
        iyz="-0.000078962"
        izz="0.185330098" />
    </inertial>
    <visual>
      <origin
        xyz="0 0 0"
        rpy="0 0 0" />
      <geometry>
        <mesh
          filename="package://tocabi_description/meshes/R_shoulder1.STL" />
      </geometry>
      <material
        name="">
        <color
          rgba="0.792156862745098 0.819607843137255 0.933333333333333 1" />
      </material>
    </visual>
    <collision>
      <origin
        xyz="0 0 0.05"
        rpy="0 0 0" />
      <geometry>
        <cylinder length="0.11" radius="0.04"/>
      </geometry>
    </collision>
  </link>
  <joint
    name="R_Shoulder1_Joint"
    type="revolute">
    <origin
      xyz="0.023 -0.154 0.2275"
      rpy="0 0 0" />
    <parent
      link="Upperbody_Link" />
    <child
      link="R_Shoulder1_Link" />
    <axis
      xyz="0 0 1" />
    <limit
      lower="-1.54"
      upper="2.09"
      effort="500"
      velocity="100" />
	<dynamics
      damping="5" />
  </joint>
  <link
    name="R_Shoulder2_Link">
    <inertial>
      <origin
        xyz="0.00107 -0.0491 -0.00001"
        rpy="0 0 0" />
      <mass
        value="0.4016" />
      <inertia
        ixx="0.000989903"
        ixy="-0.000028237"
        ixz="-0.000000465"
        iyy="0.184275853"
        iyz="-0.000000133"
        izz="0.001067575" />
    </inertial>
    <visual>
      <origin
        xyz="0 0 0"
        rpy="0 0 0" />
      <geometry>
        <mesh
          filename="package://tocabi_description/meshes/R_shoulder2.STL" />
      </geometry>
      <material
        name="">
        <color
          rgba="0.792156862745098 0.819607843137255 0.933333333333333 1" />
      </material>
    </visual>
	<collision>
      <origin
        xyz="0 -0.040 0"
        rpy="1.570796 0 0" />
      <geometry>
        <cylinder length="0.05" radius="0.04"/>
      </geometry>
    </collision>
  </link>
  <joint
    name="R_Shoulder2_Joint"
    type="revolute">
    <origin
      xyz="0 -0.0341 0.065"
      rpy="0 0 0" />
    <parent
      link="R_Shoulder1_Link" />
    <child
      link="R_Shoulder2_Link" />
    <axis
      xyz="0 -1 0" />
    <limit
      lower="-3.14159"
      upper="3.14159"
      effort="500"
      velocity="100" />
	<dynamics
      damping="5" />
  </joint>
  <link
    name="R_Shoulder3_Link">
    <inertial>
      <origin
        xyz="0.00262 -0.04826 0.00023"
        rpy="0 0 0" />
      <mass
        value="2.90141" />
      <inertia
        ixx="0.192093159"
        ixy="0.000365084"
        ixz="-0.000002746"
        iyy="0.002493784"
        iyz="0.000023821"
        izz="0.008296854" />
    </inertial>
    <visual>
      <origin
        xyz="0 0 0"
        rpy="0 0 0" />
      <geometry>
        <mesh
          filename="package://tocabi_description/meshes/R_shoulder3.STL" />
      </geometry>
      <material
        name="">
        <color
          rgba="0.792156862745098 0.819607843137255 0.933333333333333 1" />
      </material>
    </visual>
    
	<collision>
      <origin
        xyz="0 -0.06 0"
        rpy="1.570796 0 0" />
      <geometry>
        <cylinder length="0.12" radius="0.04"/>
      </geometry>
    </collision>
  </link>
  <joint
    name="R_Shoulder3_Joint"
    type="revolute">
    <origin
      xyz="0 -0.115 0"
      rpy="0 0 0" />
    <parent
      link="R_Shoulder2_Link" />
    <child
      link="R_Shoulder3_Link" />
    <axis
      xyz="-1 0 0" />
    <limit
      lower="-1.9199"
      upper="1.9199"
      effort="500"
      velocity="100" />
	<dynamics
      damping="5" />
  </joint>
  <link
    name="R_Armlink_Link">
    <inertial>
      <origin
        xyz="-0.01896 -0.11642 -0.0119"
        rpy="0 0 0" />
      <mass
        value="0.58517" />
      <inertia
        ixx="0.002878609"
        ixy="-0.000302586"
        ixz="-0.000036001"
        iyy="0.184381923"
        iyz="-0.000398377"
        izz="0.003117058" />
    </inertial>
    <visual>
      <origin
        xyz="0 0 0"
        rpy="0 0 0" />
      <geometry>
        <mesh
          filename="package://tocabi_description/meshes/R_arm.STL" />
      </geometry>
      <material
        name="">
        <color
          rgba="0.792156862745098 0.819607843137255 0.933333333333333 1" />
      </material>
    </visual>
	<collision>
      <origin
        xyz="0 -0.08 0"
        rpy="1.570796 0 0" />
      <geometry>
        <cylinder length="0.16" radius="0.04"/>
      </geometry>
    </collision>
  </link>
  <joint
    name="R_Armlink_Joint"
    type="revolute">
    <origin
      xyz="0 -0.1281 0"
      rpy="0 0 0" />
    <parent
      link="R_Shoulder3_Link" />
    <child
      link="R_Armlink_Link" />
    <axis
      xyz="0 -1 0" />
    <limit
      lower="-3.14159"
      upper="3.14159"
      effort="500"
      velocity="100" />
	<dynamics
      damping="5" />
  </joint>
  <link
    name="R_Elbow_Link">
    <inertial>
      <origin
        xyz="-0.00136 -0.05256 0.01764"
        rpy="0 0 0" />
      <mass
        value="2.06511" />
      <inertia
        ixx="0.055865466"
        ixy="-0.000151764"
        ixz="0.000055158"
        iyy="0.001895543"
        iyz="-0.001530917"
        izz="0.005958821" />
    </inertial>
    <visual>
      <origin
        xyz="0 0 0"
        rpy="0 0 0" />
      <geometry>
        <mesh
          filename="package://tocabi_description/meshes/R_elbow.STL" />
      </geometry>
      <material
        name="">
        <color
          rgba="0.792156862745098 0.819607843137255 0.933333333333333 1" />
      </material>
    </visual>
	
	<collision>
      <origin
        xyz="0 -0.08 0.0325"
        rpy="1.570796 0 0" />
      <geometry>
        <cylinder length="0.08" radius="0.04"/>
      </geometry>
    </collision>
	<collision>
      <origin
        xyz="0 0 0"
        rpy="0 1.570796 0" />
      <geometry>
        <cylinder length="0.08" radius="0.04"/>
      </geometry>
    </collision>
	
  </link>
  <joint
    name="R_Elbow_Joint"
    type="revolute">
    <origin
      xyz="0 -0.207 -0.0325"
      rpy="0 0 0" />
    <parent
      link="R_Armlink_Link" />
    <child
      link="R_Elbow_Link" />
    <axis
      xyz="1 0 0" />
    <limit
      lower="-2.967"
      upper="3.14159"
      effort="500"
      velocity="100" />
	<dynamics
      damping="5" />
  </joint>
  <link
    name="R_Forearm_Link">
    <inertial>
      <origin
        xyz="-0.01426 -0.0767 0.00033"
        rpy="0 0 0" />
      <mass
        value="0.35234" />
      <inertia
        ixx="0.001053636"
        ixy="-0.000084568"
        ixz="0.000022117"
        iyy="0.049889479"
        iyz="-0.000019539"
        izz="0.001266418" />
    </inertial>
    <visual>
      <origin
        xyz="0 0 0"
        rpy="0 0 0" />
      <geometry>
        <mesh
          filename="package://tocabi_description/meshes/R_forearm.STL" />
      </geometry>
      <material
        name="">
        <color
          rgba="0.792156862745098 0.819607843137255 0.933333333333333 1" />
      </material>
    </visual>
	<collision>
      <origin
        xyz="0 -0.05 0"
        rpy="1.570796 0 0" />
      <geometry>
        <cylinder length="0.1" radius="0.04"/>
      </geometry>
    </collision>
	<collision>
      <origin
        xyz="0 -0.1451 0"
        rpy="0 1.570796 0" />
      <geometry>
        <cylinder length="0.08" radius="0.025"/>
      </geometry>
    </collision>
  </link>
  <joint
    name="R_Forearm_Joint"
    type="revolute">
    <origin
      xyz="0 -0.1244 0.0325"
      rpy="0 0 0" />
    <parent
      link="R_Elbow_Link" />
    <child
      link="R_Forearm_Link" />
    <axis
      xyz="0 -1 0" />
    <limit
      lower="-3.14159"
      upper="3.14159"
      effort="500"
      velocity="100" />
	<dynamics
      damping="5" />
  </joint>
  <link
    name="R_Wrist1_Link">
    <inertial>
      <origin
        xyz="-0.00158 -0.02153 0.00003"
        rpy="0 0 0" />
      <mass
        value="0.70923" />
      <inertia
        ixx="0.015205197"
        ixy="-0.000024218"
        ixz="-0.000000263"
        iyy="0.000396376"
        iyz="-0.000000688"
        izz="0.000683187" />
    </inertial>
    <visual>
      <origin
        xyz="0 0 0"
        rpy="0 0 0" />
      <geometry>
        <mesh
          filename="package://tocabi_description/meshes/R_wrist1.STL" />
      </geometry>
      <material
        name="">
        <color
          rgba="0.792156862745098 0.819607843137255 0.933333333333333 1" />
      </material>
    </visual>
	<collision>
      <origin
        xyz="0 -0.046 0"
        rpy="0 0 0" />
      <geometry>
        <cylinder length="0.06" radius="0.02"/>
      </geometry>
    </collision>
  </link>
  <joint
    name="R_Wrist1_Joint"
    type="revolute">
    <origin
      xyz="0 -0.1451 0"
      rpy="0 0 0" />
    <parent
      link="R_Forearm_Link" />
    <child
      link="R_Wrist1_Link" />
    <axis
      xyz="1 0 0" />
    <limit
      lower="-3.14159"
      upper="3.14159"
      effort="500"
      velocity="100" />
	<dynamics
      damping="5" />
  </joint>
  <link
    name="R_Wrist2_Link">
    <inertial>
      <origin
        xyz="0.00063 -0.0636 -0.15"
        rpy="0 0 0" />
      <mass
        value="1.1" />
      <inertia
        ixx="0.000865450"
        ixy="0"
        ixz="0"
        iyy="0.000696917"
        iyz="0"
        izz="0.015377823" />
    </inertial>
    <visual>
      <origin
        xyz="0 0 -0.025"
        rpy="0 0 0" />
      <geometry>
        <box size="0.06 0.06 0.02"/>
      </geometry>
      <material
        name="">
        <color
          rgba="0.792156862745098 0.819607843137255 0.933333333333333 1" />
      </material>
    </visual>
    <collision>
      <origin
        xyz="0 0 -0.025"
        rpy="0 0 0" />
      <geometry>
        <box size="0.06 0.06 0.02"/>
      </geometry>
    </collision>
  </link>
  <joint
    name="R_Wrist2_Joint"
    type="revolute">
    <origin
      xyz="0 -0.046 0"
      rpy="-1.5708 3.1415 0" />
    <parent
      link="R_Wrist1_Link" />
    <child
      link="R_Wrist2_Link" />
    <axis
      xyz="0 -1 0" />
    <limit
      lower="-2.094"
      upper="2.094"
      effort="500"
      velocity="100" />
	<dynamics
      damping="5" />
  </joint>  

  
  
</robot>
